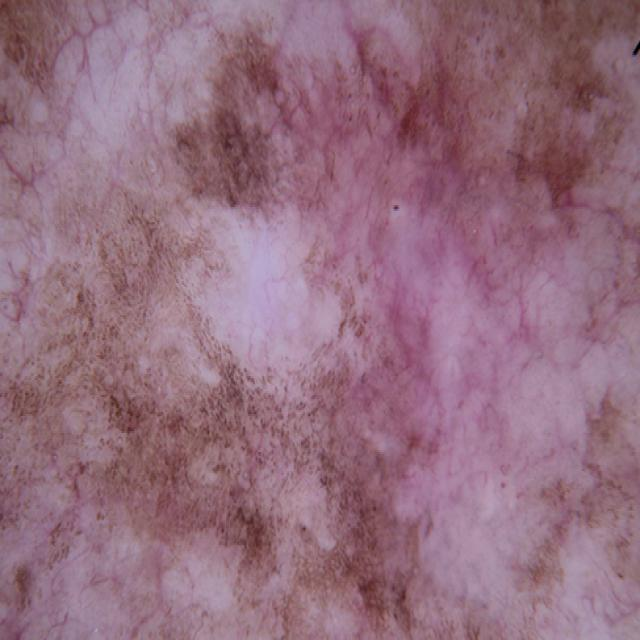Keratosis: (197, 391, 556, 640), (314, 72, 640, 310), (0, 65, 138, 422)
